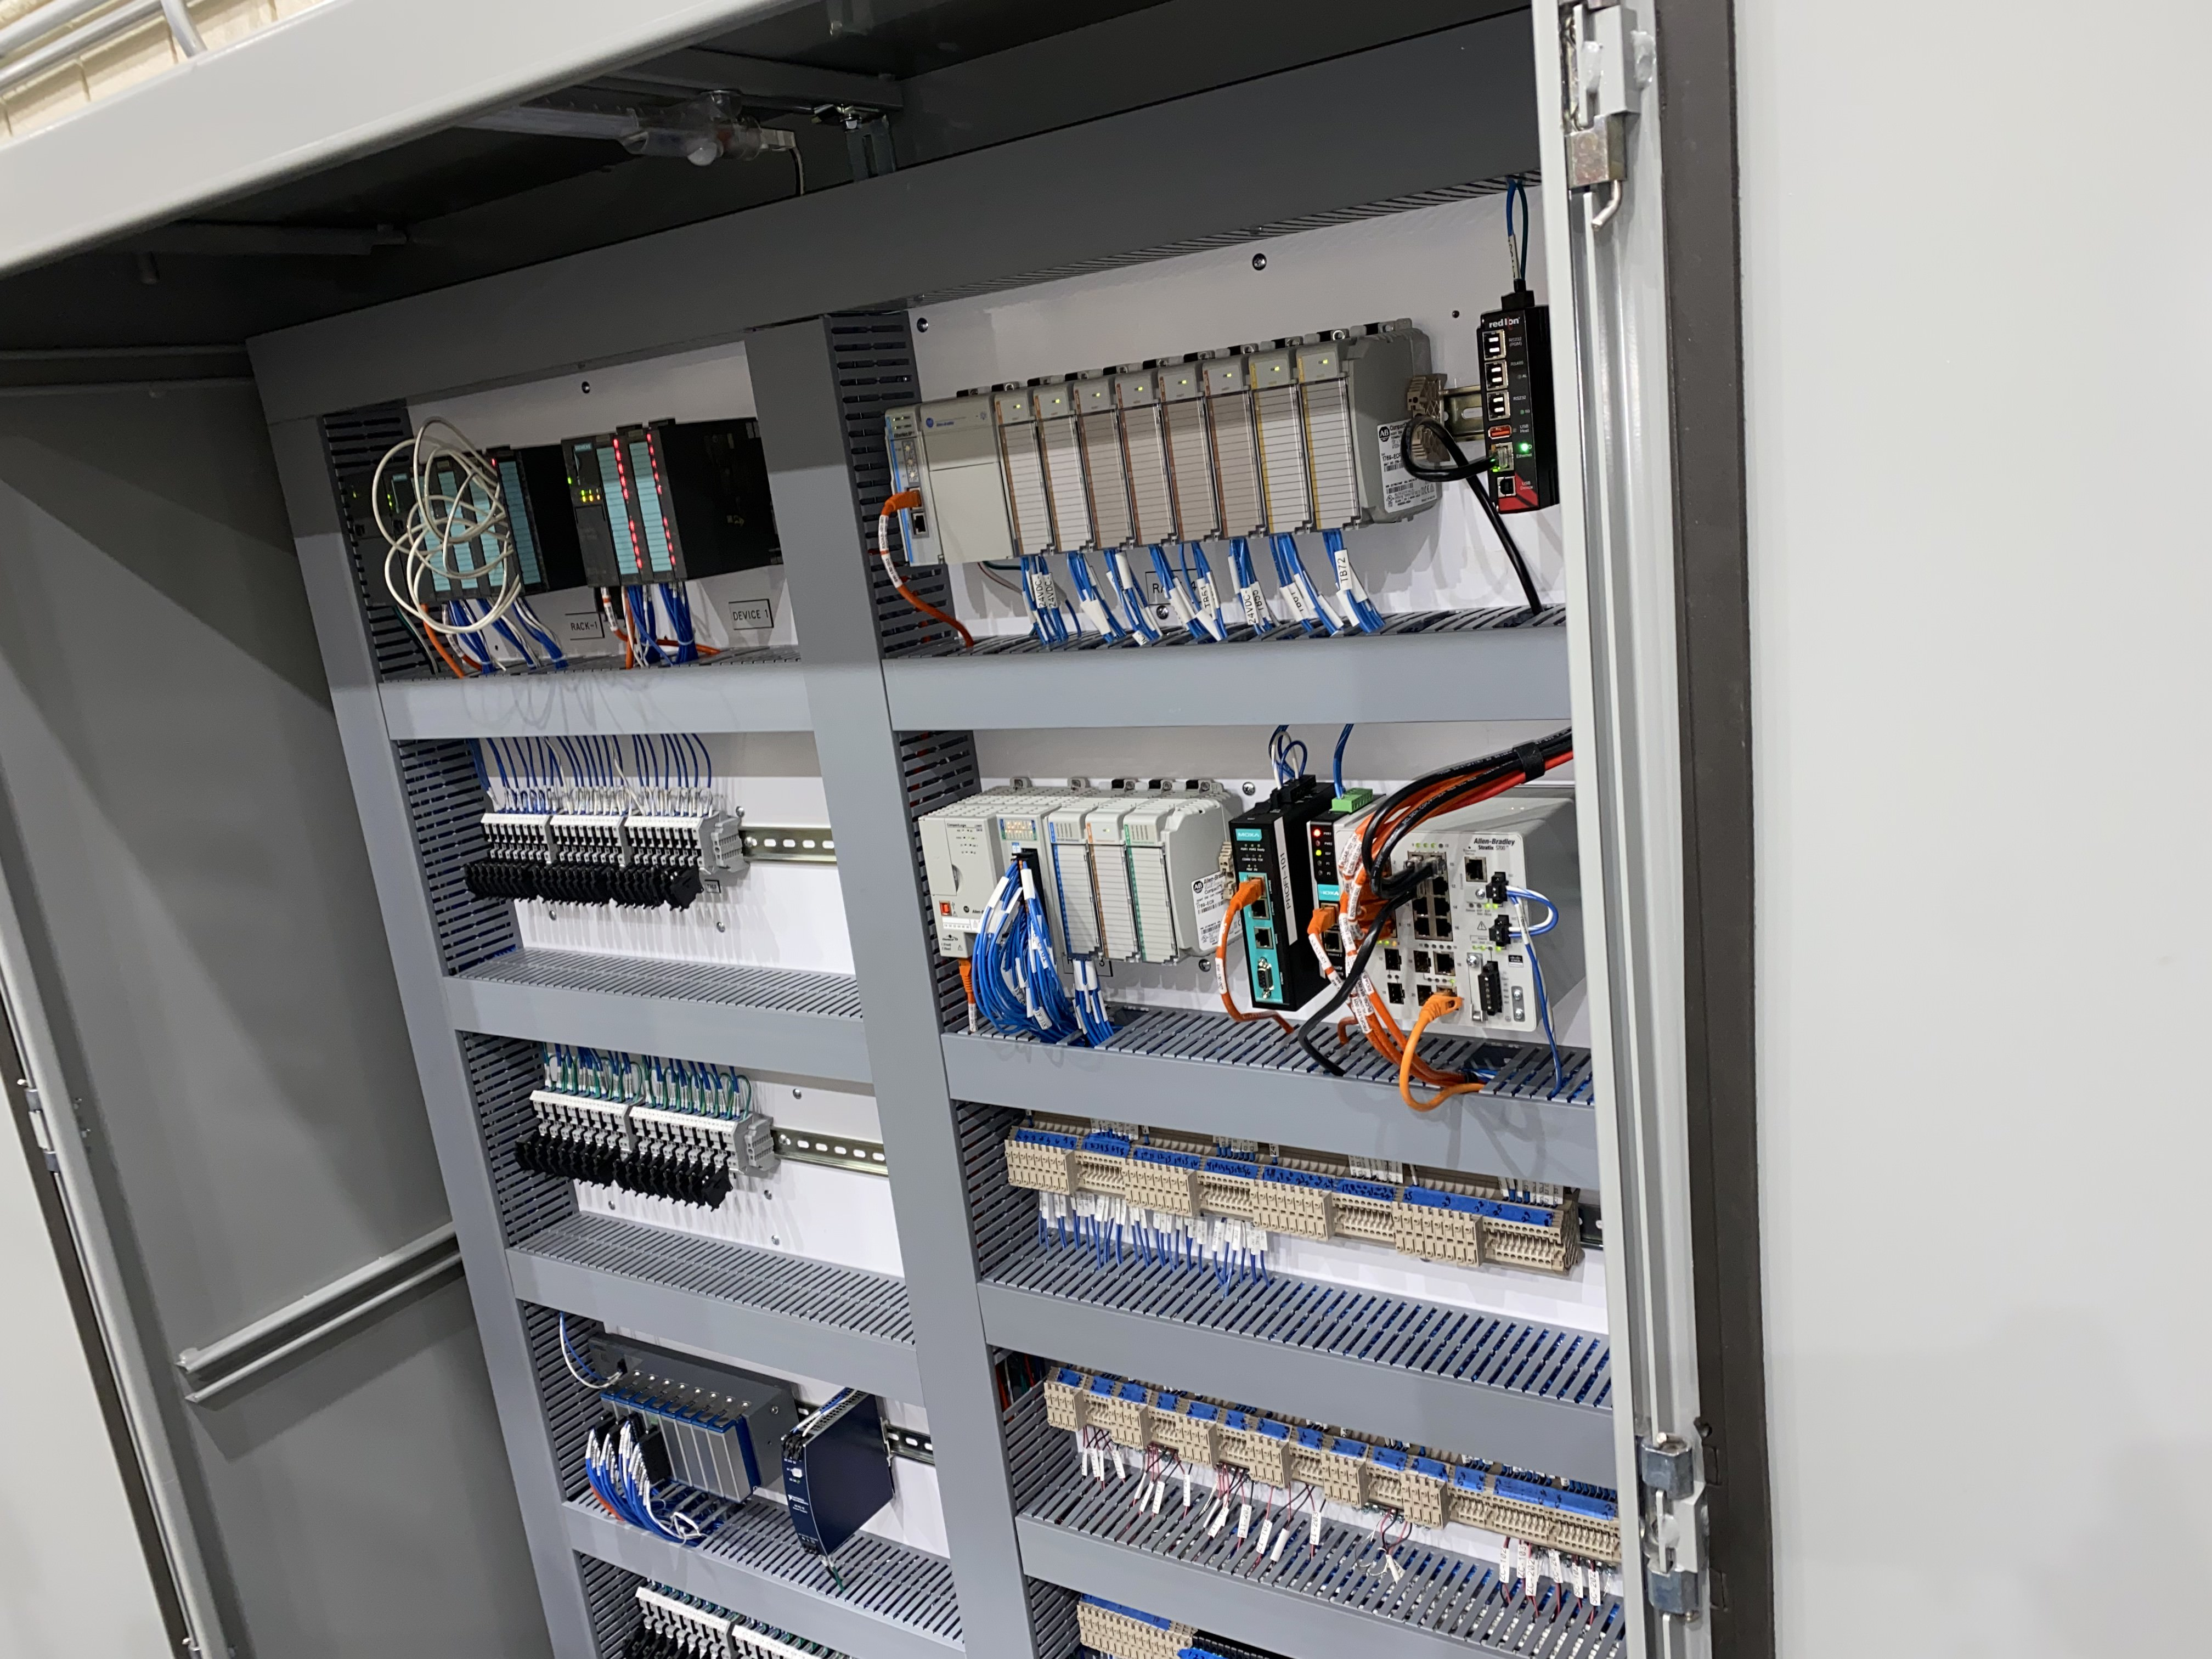AllenBradley: (913, 810, 1010, 967)
Siemens: (374, 460, 439, 608)
